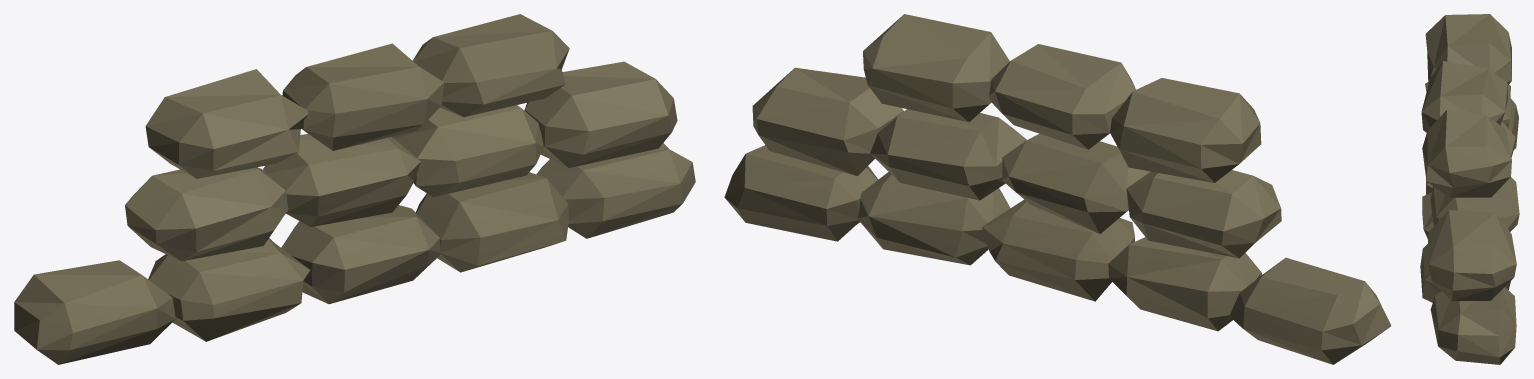
The model's file is sandbag-stack.glb.
The picture shows the model from 3 angles, left to right: view 1: azimuth 30°, elevation 25°; view 2: azimuth 150°, elevation 25°; view 3: azimuth 270°, elevation 25°; orthographic projection. The views are drawn at different scales.
Parts seen in each view (by area): view 1: sandbag_stack; view 2: sandbag_stack; view 3: sandbag_stack.
Part boxes in pixels (left/top/right/bottom): sandbag_stack: left=14, top=14, right=695, bottom=364; sandbag_stack: left=724, top=14, right=1391, bottom=364; sandbag_stack: left=1420, top=14, right=1519, bottom=364.
Bounding box in the file's own units: 1.72 × 0.571 × 0.2919.
